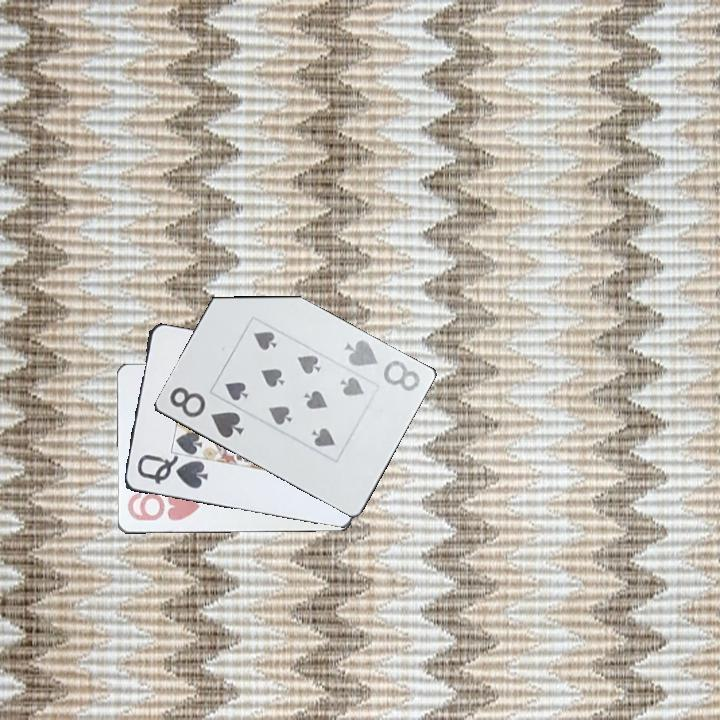6h: (123, 490, 202, 524)
8s: (341, 336, 423, 394), (165, 383, 246, 441)
Qs: (133, 451, 211, 492)
